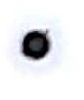cancer: (3, 12, 71, 77)
